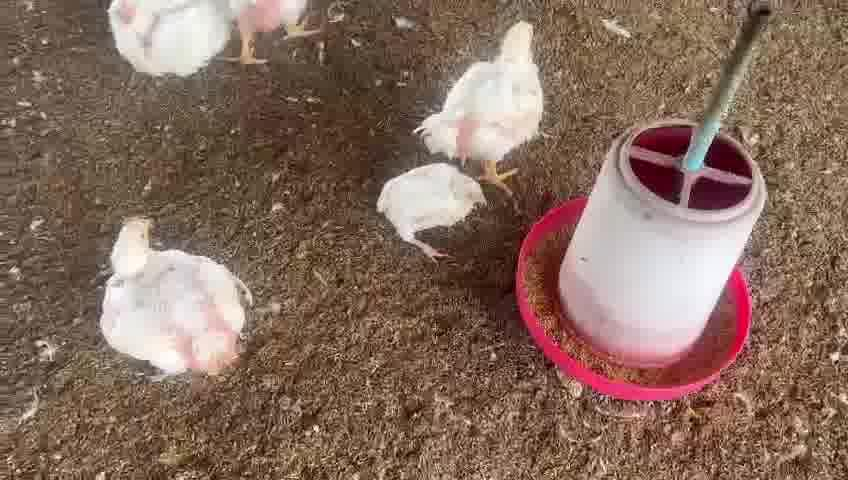AbNormal: (372, 149, 488, 270)
Normal: (90, 205, 259, 388), (434, 18, 564, 186), (96, 0, 256, 91)
